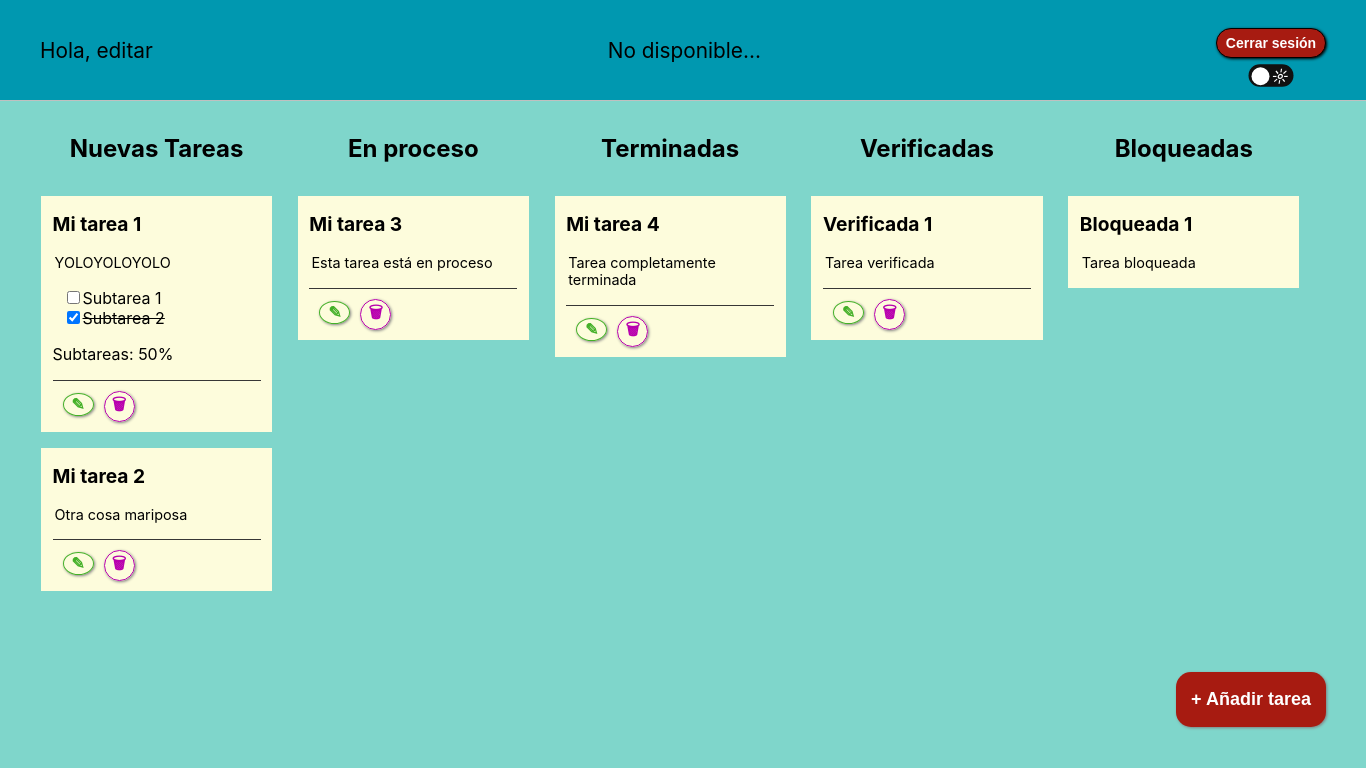
Test: Edit task › Changes the values of the form and saves them
The width and height of the screenshot is (1366, 768).
Click the button with test id "1buttoneditar" at (79, 405), box [63,393,94,416]
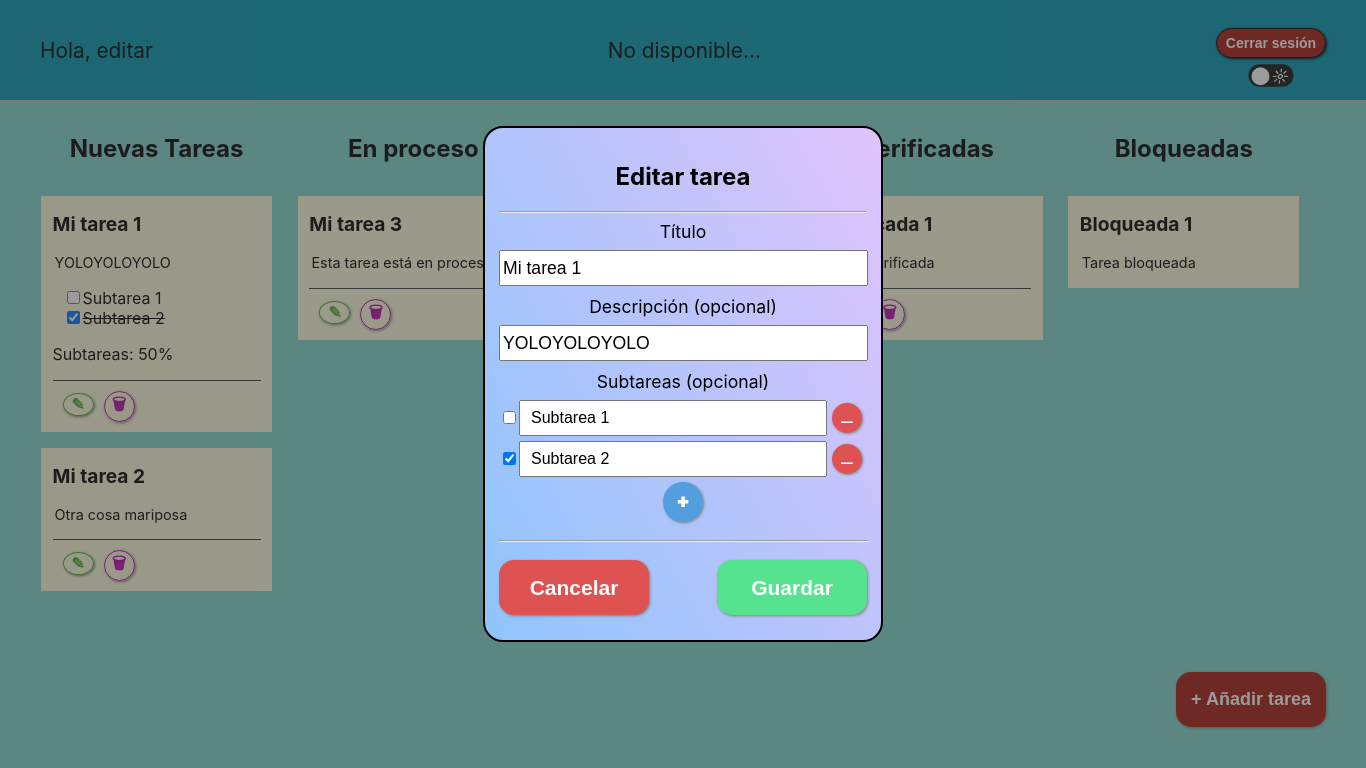
Replace the text in the field with test id "input-titulo" with "Tarea editada" at (684, 268), box [499,250,868,286]
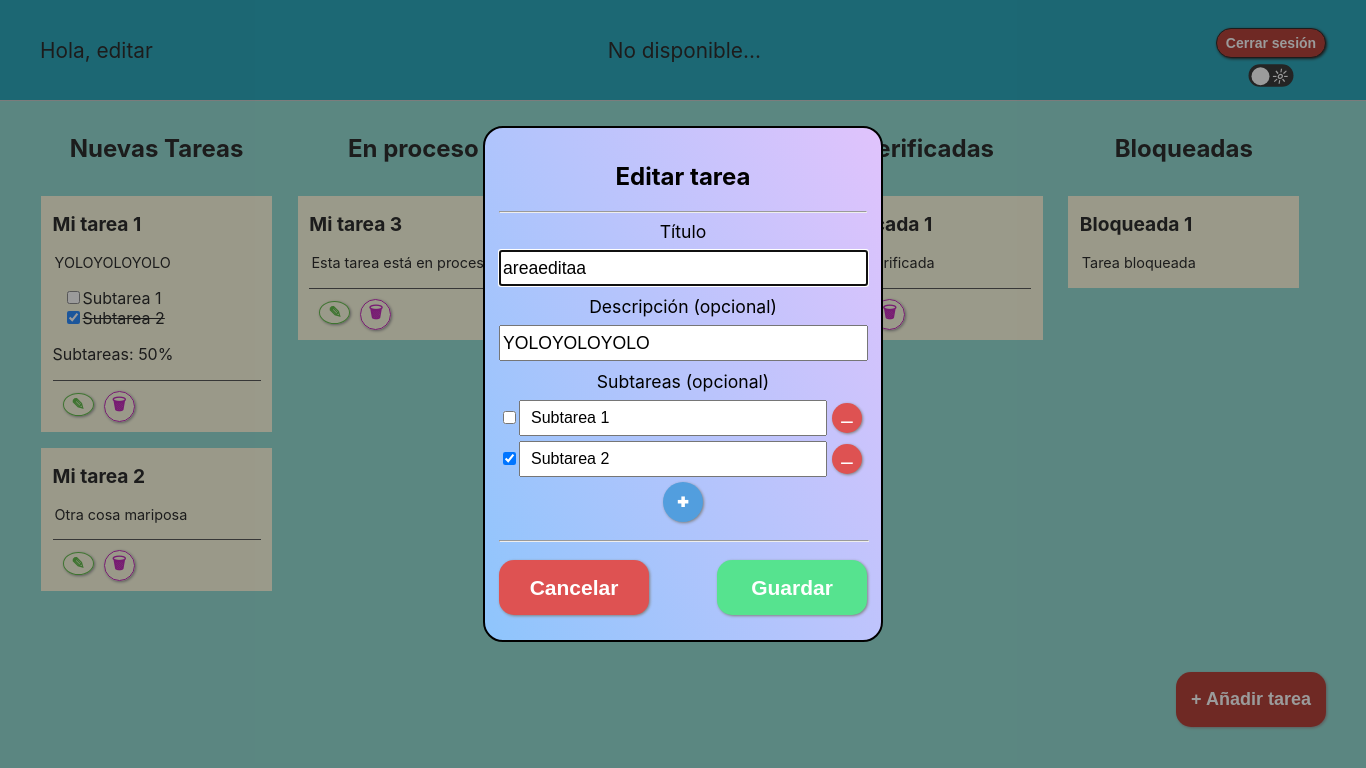
Replace the text in the field with test id "input-descripcion" with "Descripción editada" at (684, 343), box [499,325,868,361]
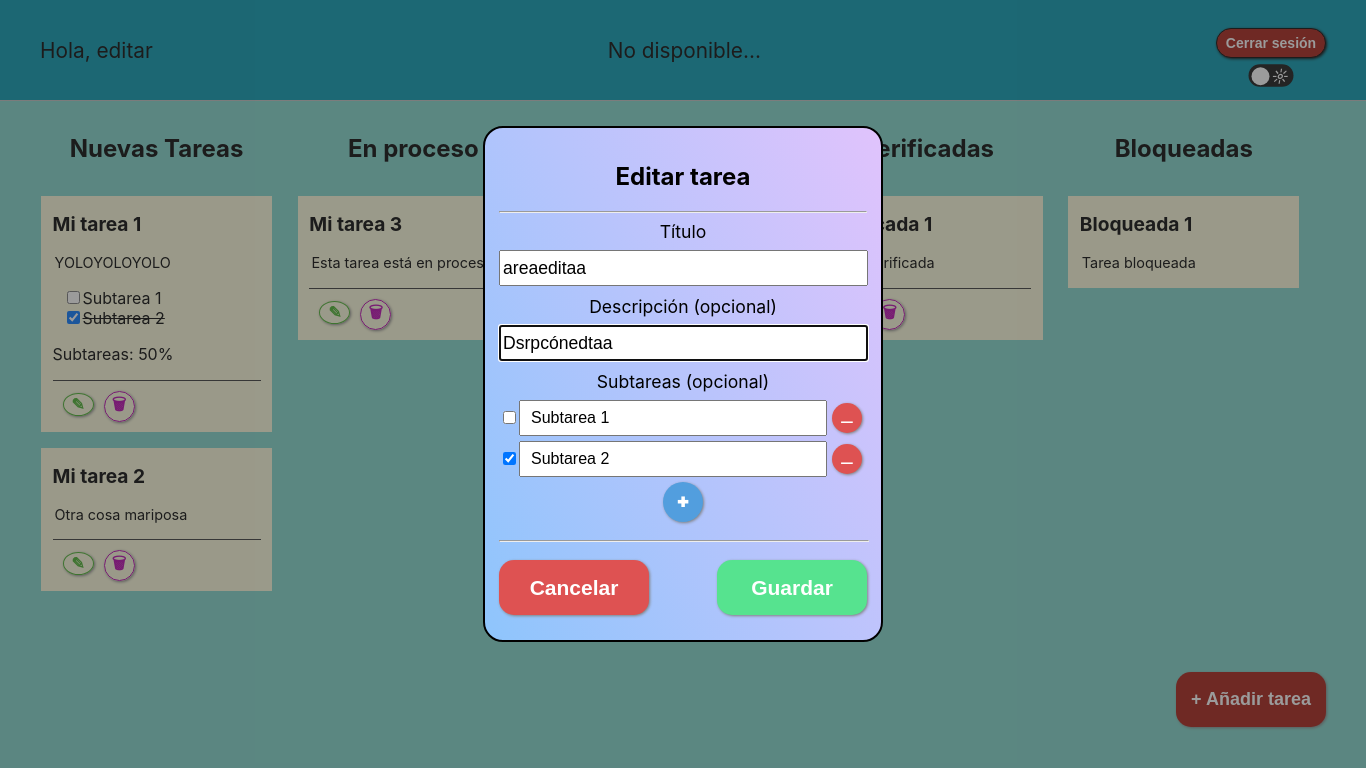
Click the button with test id "sButton0" at (847, 418), box [832,403,862,433]
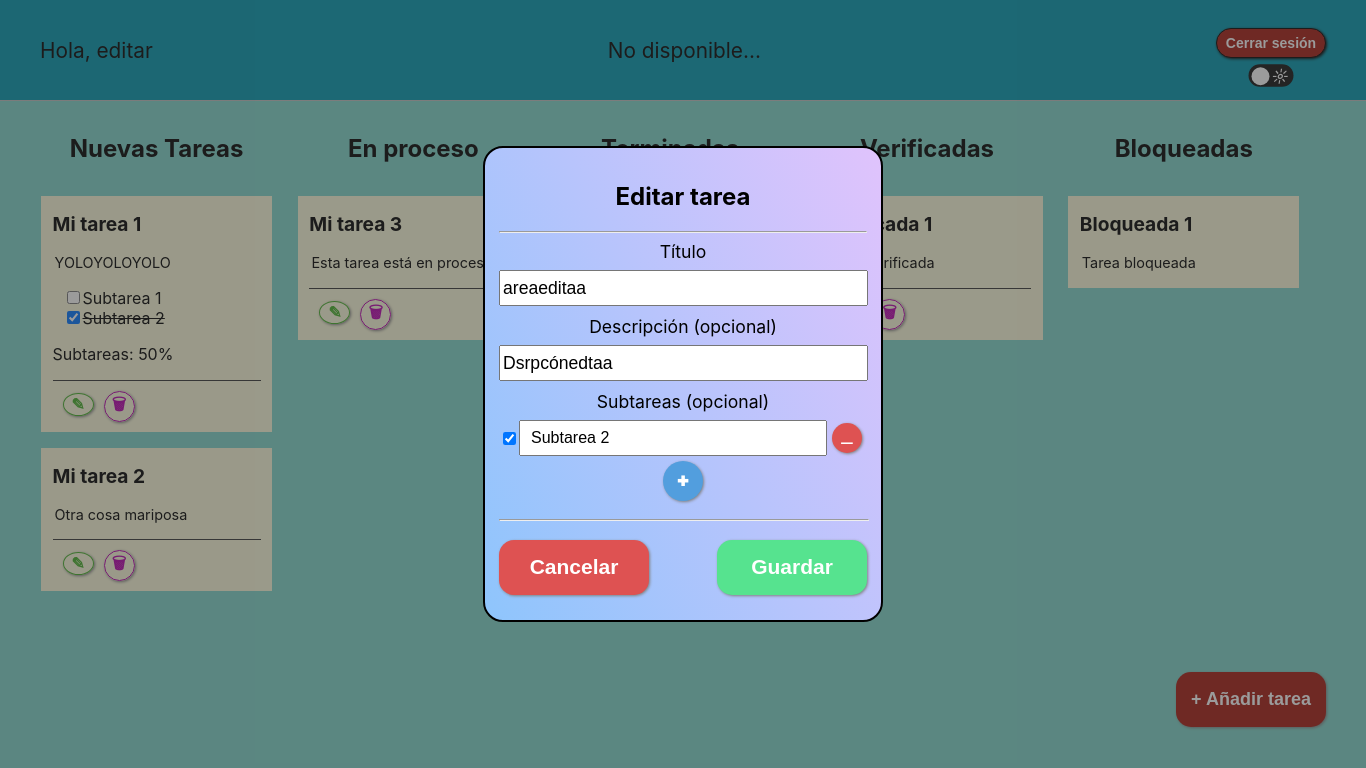
Click the submit button at (792, 568), box [717,540,867,595]
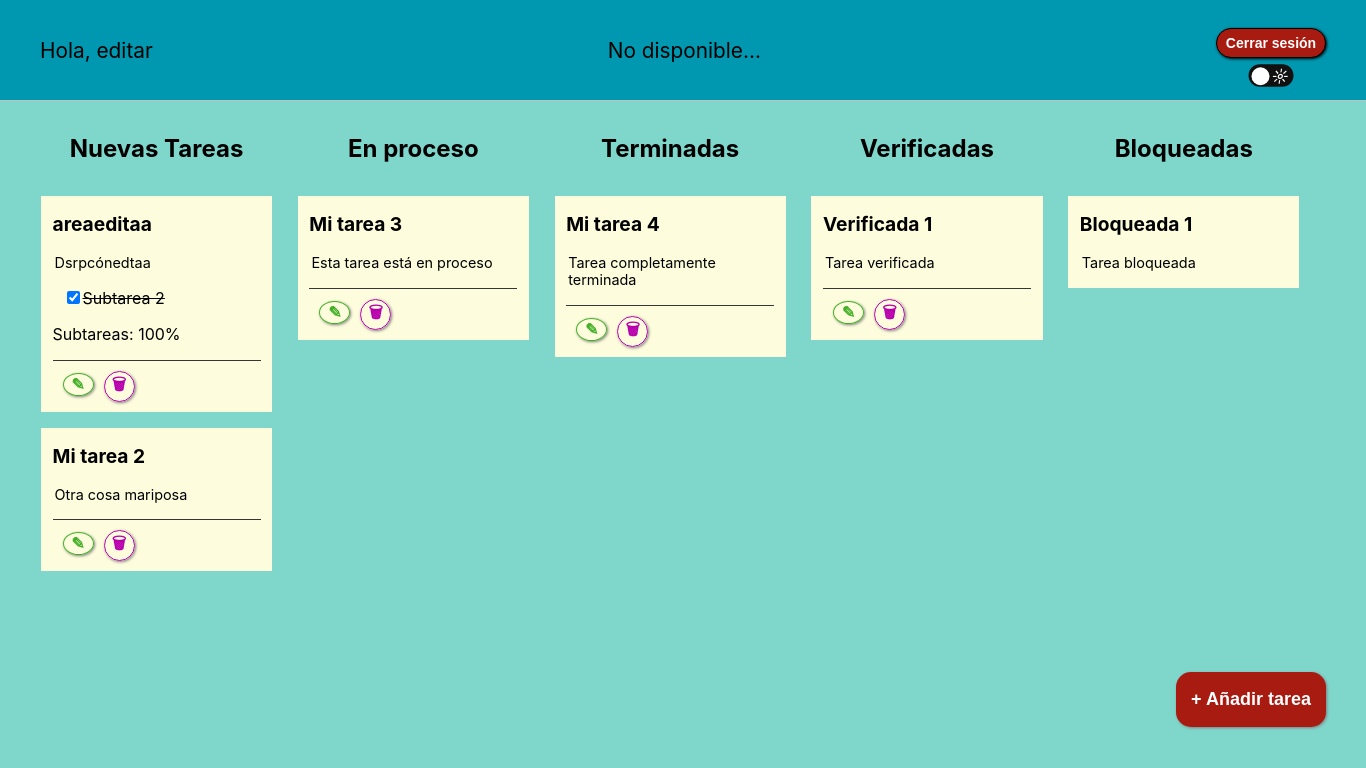
Now the label no longer shows "Subtarea 1"
